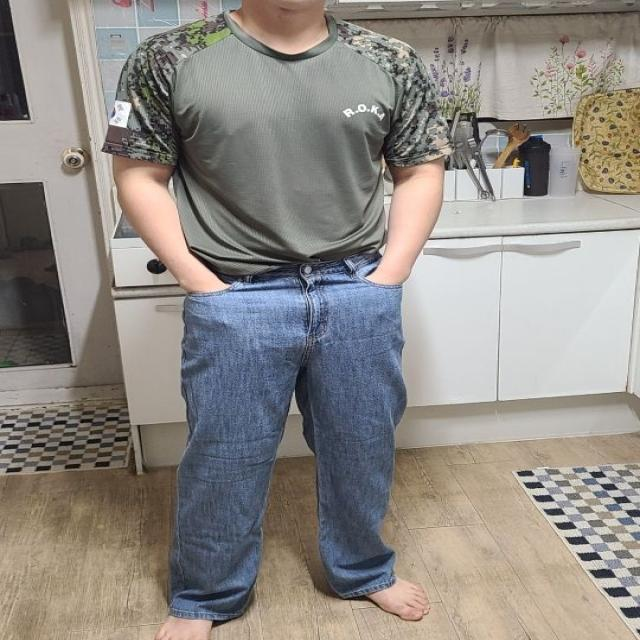denimpants: (166, 258, 402, 621)
shortsleeve: (99, 4, 448, 273)
